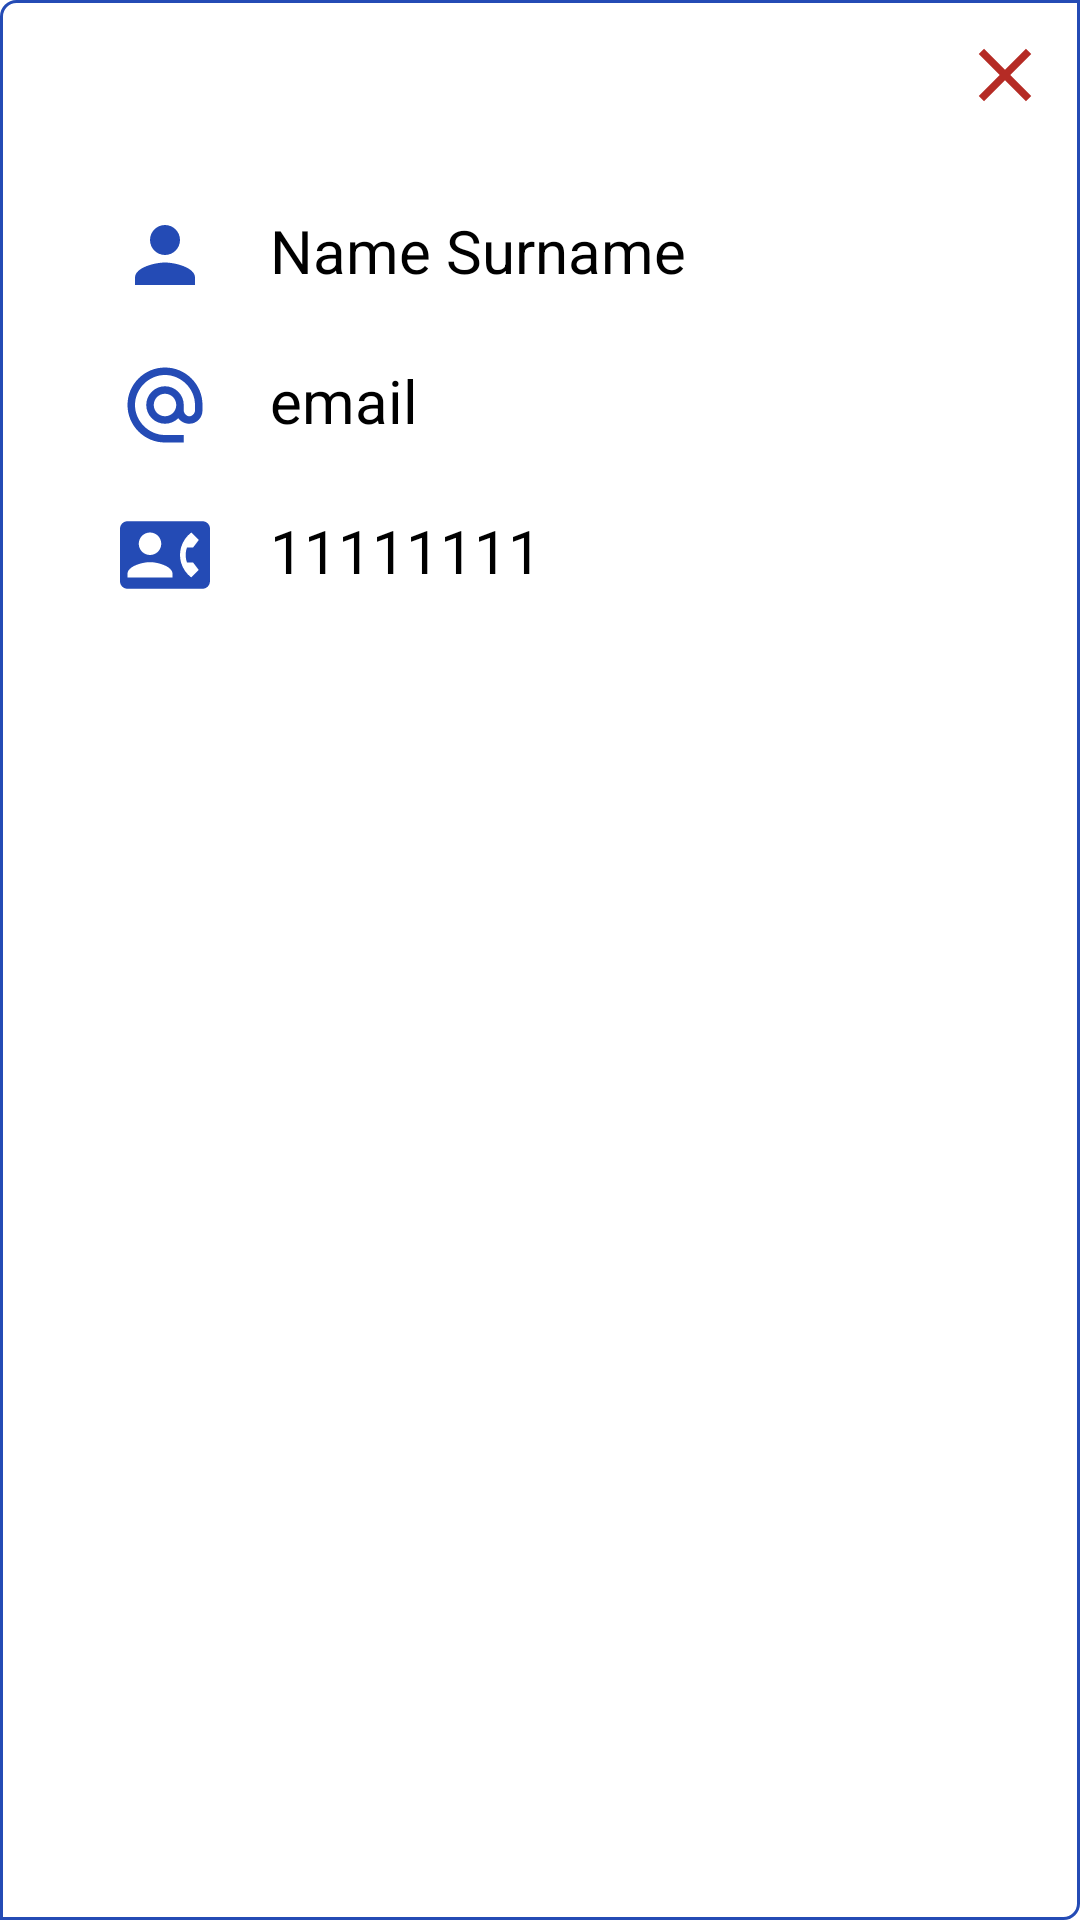

Point at icon controls on the screen. Image size 1080px x 1920px, points as (x,y).
close: (1005,75)
contact phone: (165,555)
person: (165,255)
